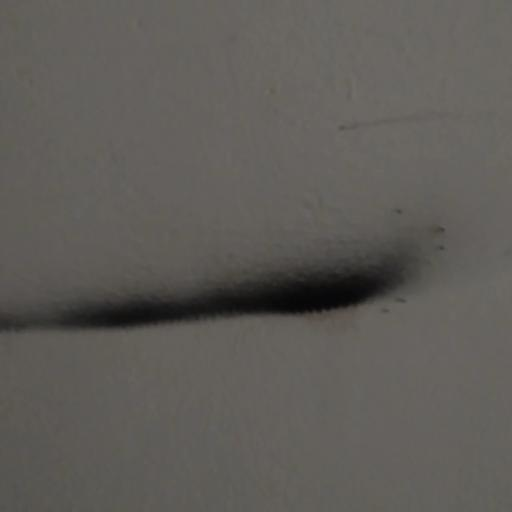stain: (0, 193, 479, 347), (332, 105, 469, 138)
